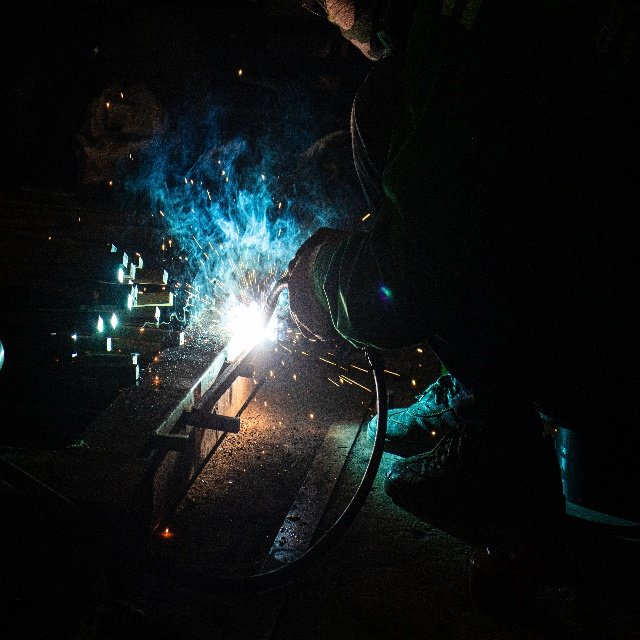Gafas: (299, 0, 328, 18)
Guantes: (287, 243, 334, 344)
